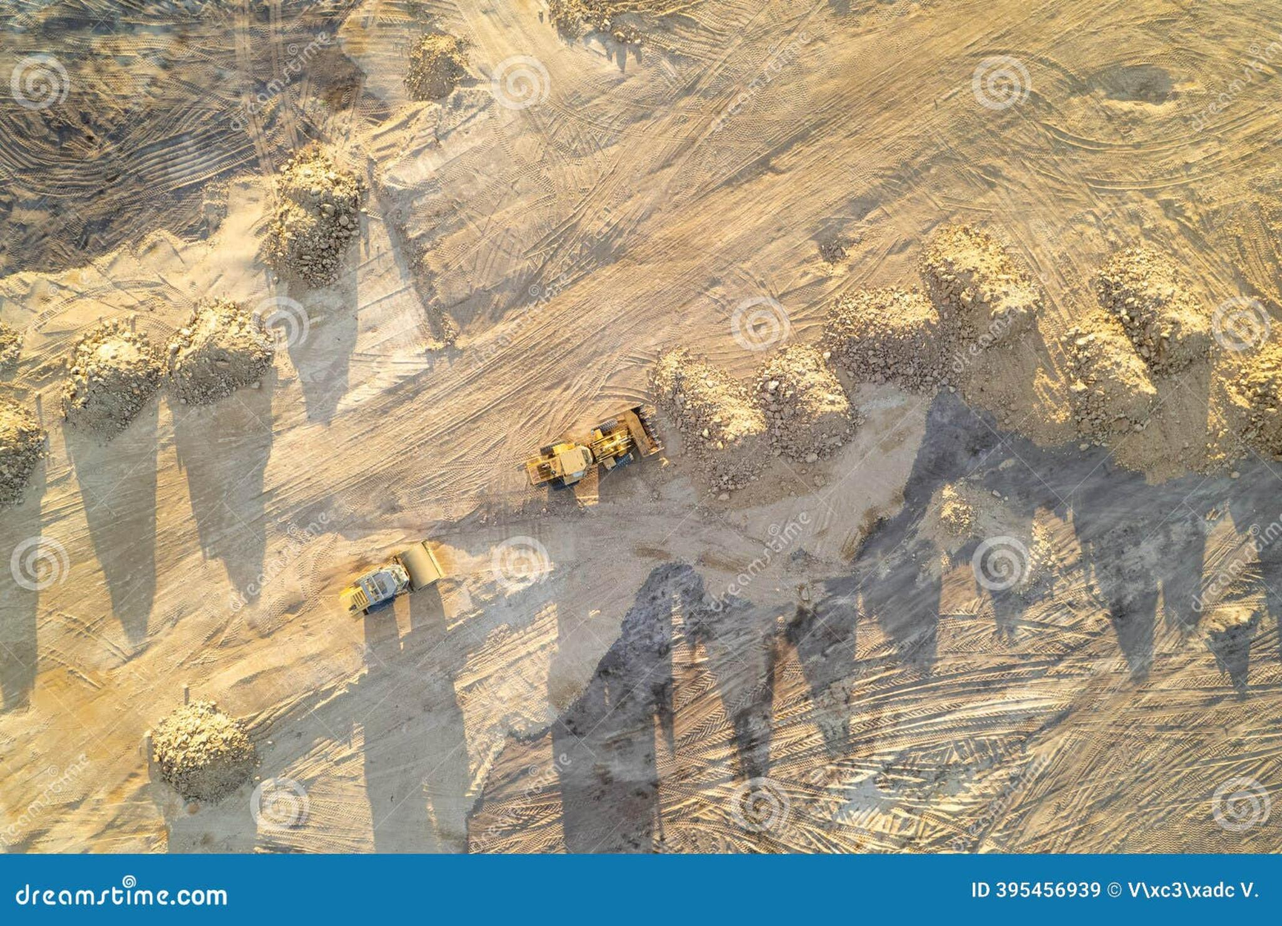excavator: (529, 400, 654, 491), (347, 525, 439, 605)
